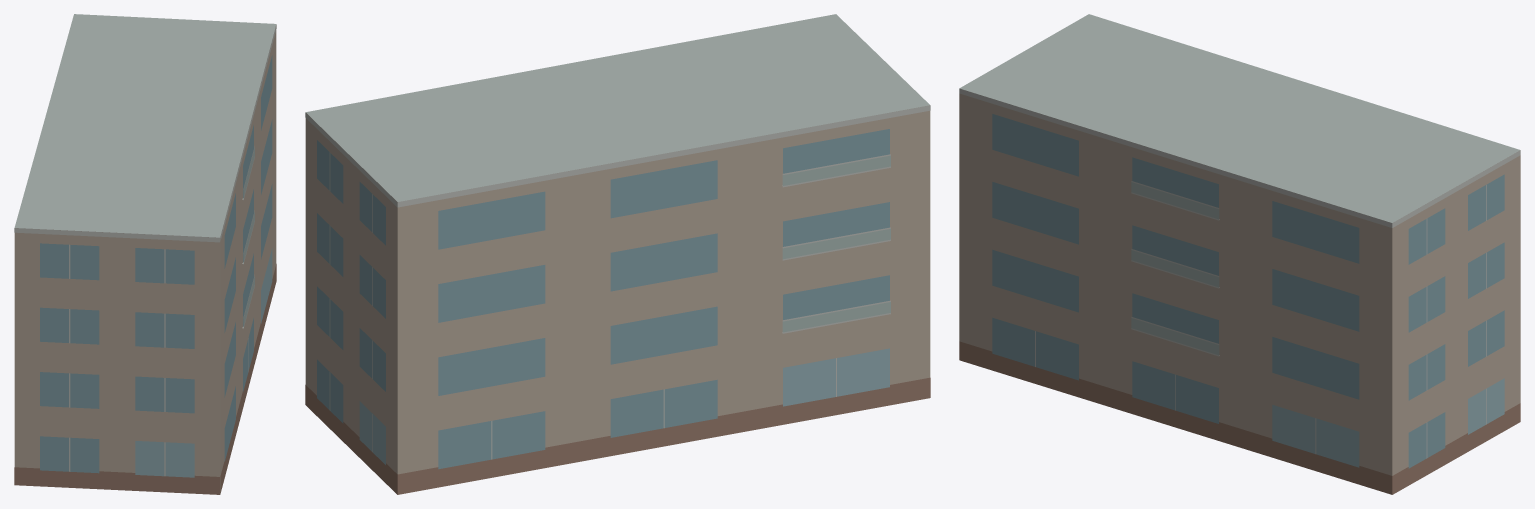
Rendered from survey-upis-33036218.glb.
3 views of the same model, side by side, from view 1: azimuth 30°, elevation 25°; view 2: azimuth 150°, elevation 25°; view 3: azimuth 270°, elevation 25° (orthographic). The views are drawn at different scales.
Visible parts, largest first — view 1: survey-upis-33036218.tmp; view 2: survey-upis-33036218.tmp; view 3: survey-upis-33036218.tmp.
Part boxes in pixels (left/top/right/bottom): survey-upis-33036218.tmp: left=14, top=14, right=276, bottom=494; survey-upis-33036218.tmp: left=305, top=14, right=930, bottom=494; survey-upis-33036218.tmp: left=959, top=14, right=1520, bottom=494.
Bounding box in the file's own units: 21.79 × 13.2 × 24.72.
